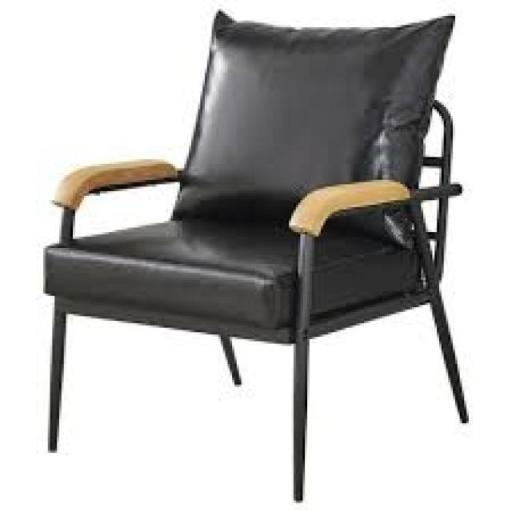sofa: (9, 0, 512, 512)
